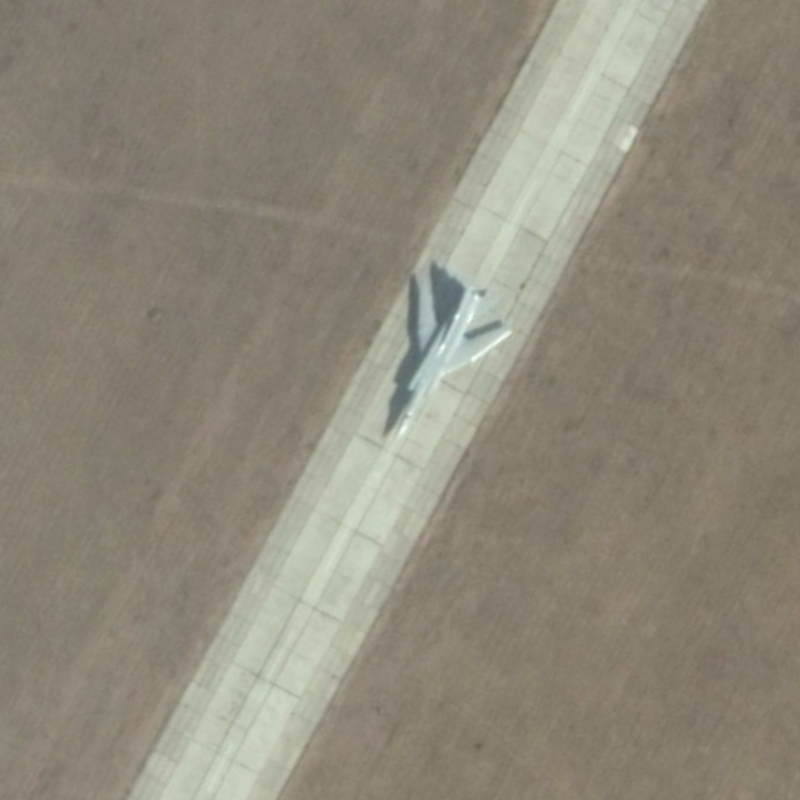A12: (382, 264, 517, 444)
